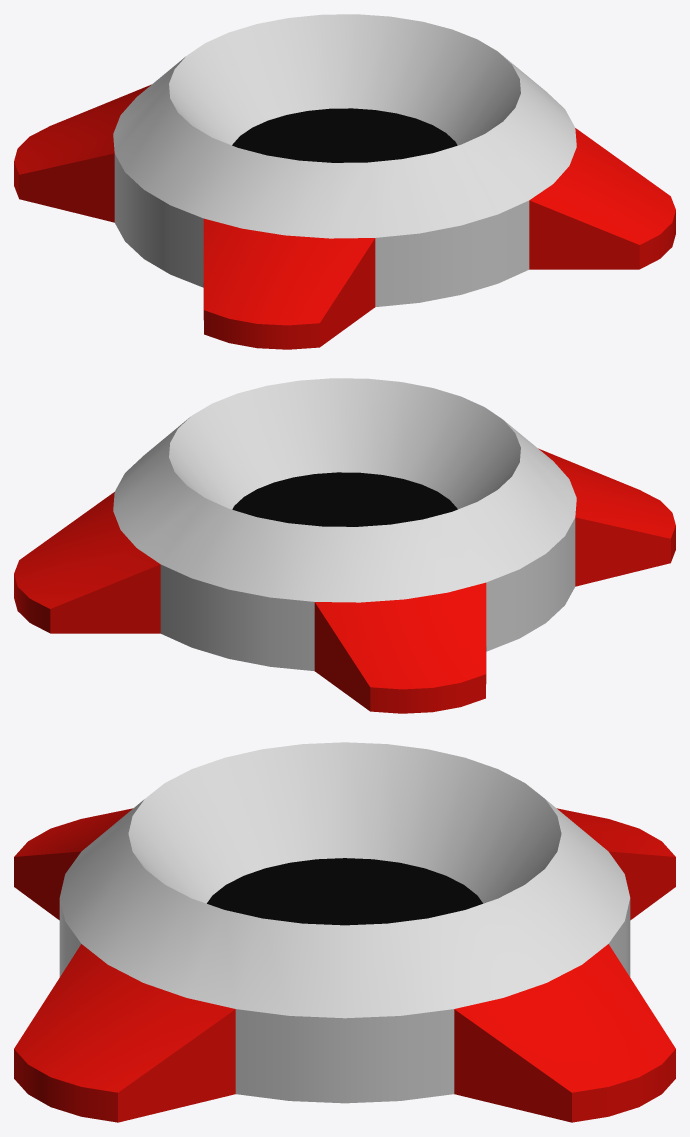
Rendered from silo.fbx.
The picture shows the model from 3 angles, top to bottom: view 1: azimuth 30°, elevation 25°; view 2: azimuth 150°, elevation 25°; view 3: azimuth 270°, elevation 25°; orthographic projection. The views are drawn at different scales.
Parts seen in each view (by area): view 1: silo; view 2: silo; view 3: silo.
Part boxes in pixels (<box>): silo: <box>14,14,675,349</box>; silo: <box>14,378,675,713</box>; silo: <box>14,742,675,1122</box>.
Bounding box in the file's own units: 232 × 57.6 × 232.
